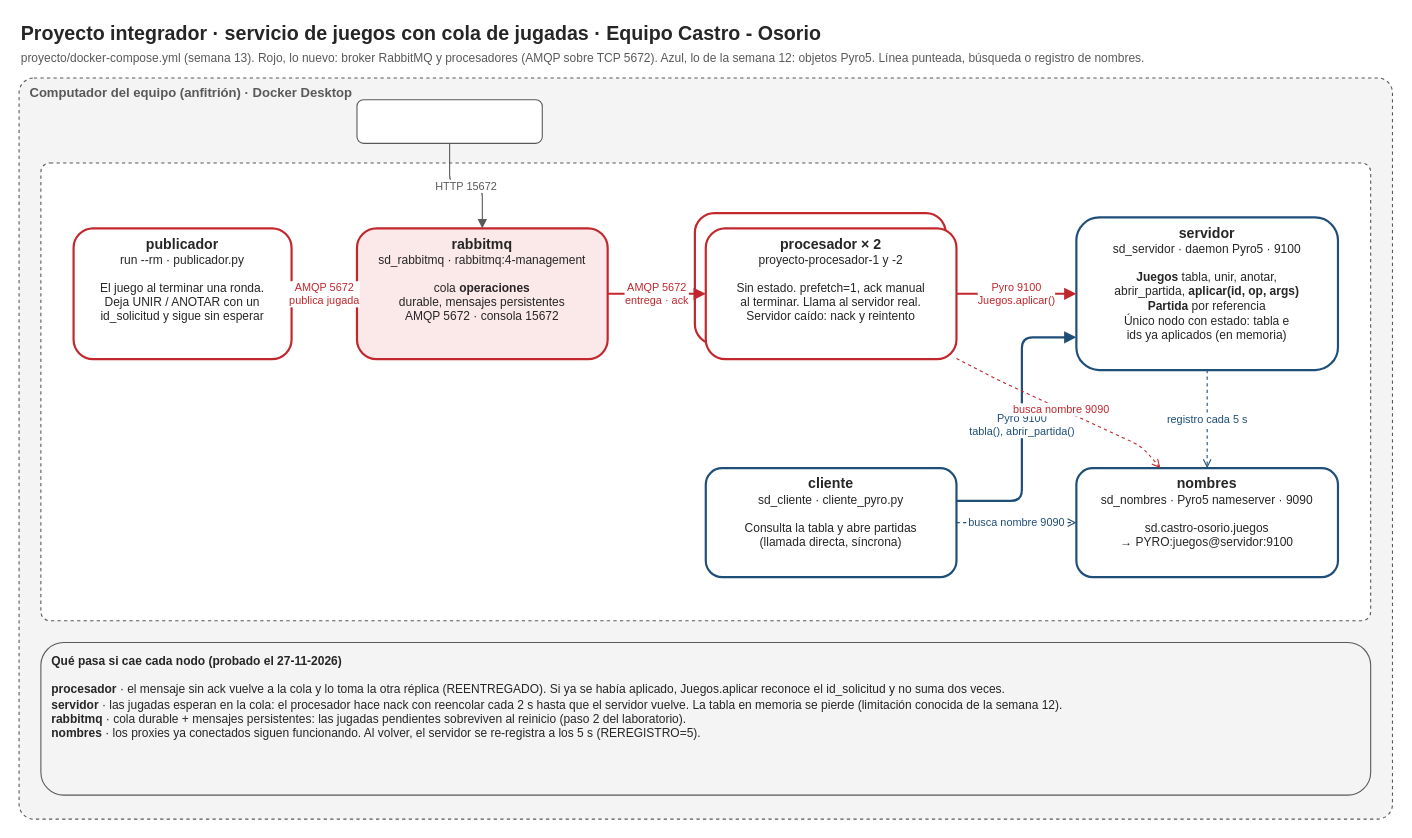
This 1412x838 diagram has some shape labels left out. Each missing label, with the box of its shape:
navegador localhost:15672 (guest): (356, 99, 542, 143)
red Docker sd_net (bridge): (40, 162, 1371, 621)
